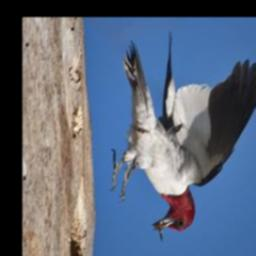Woodpecker: (111, 33, 256, 238)
